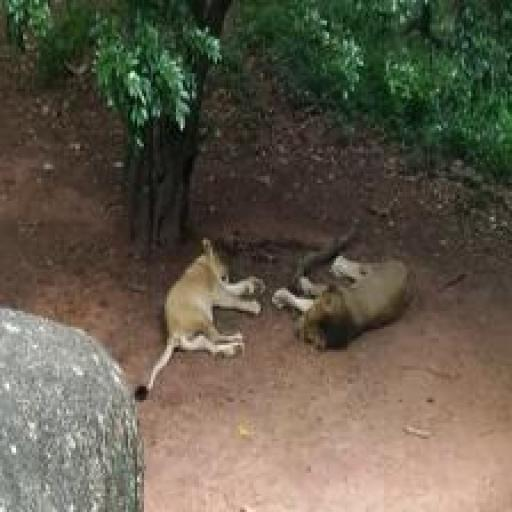Tiger: (130, 238, 265, 399)
